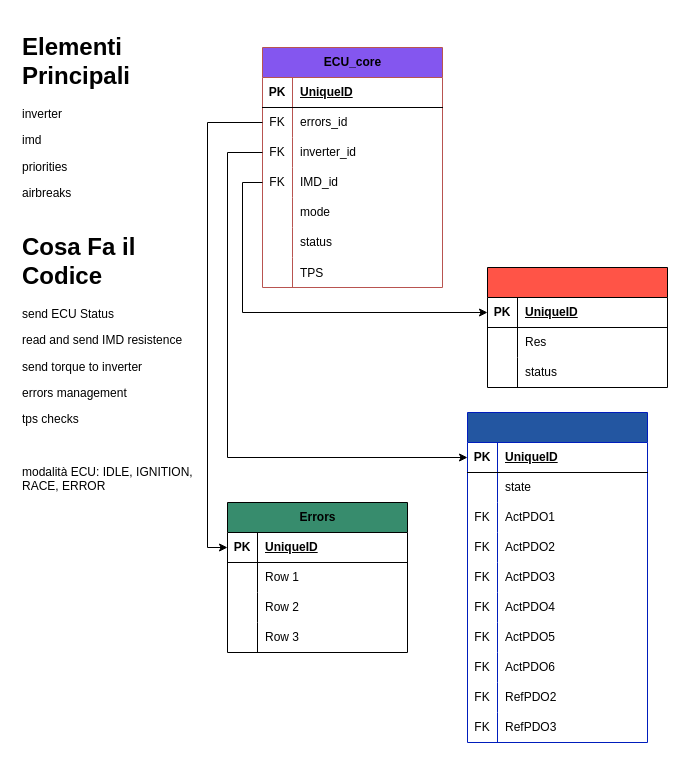
This 685x760 diagram has some shape labels left out. Here are the shapes that lost their labels. From the top down, the box of each, then its label:
(486, 266, 668, 388): IMD
(466, 412, 648, 742): Inverter
